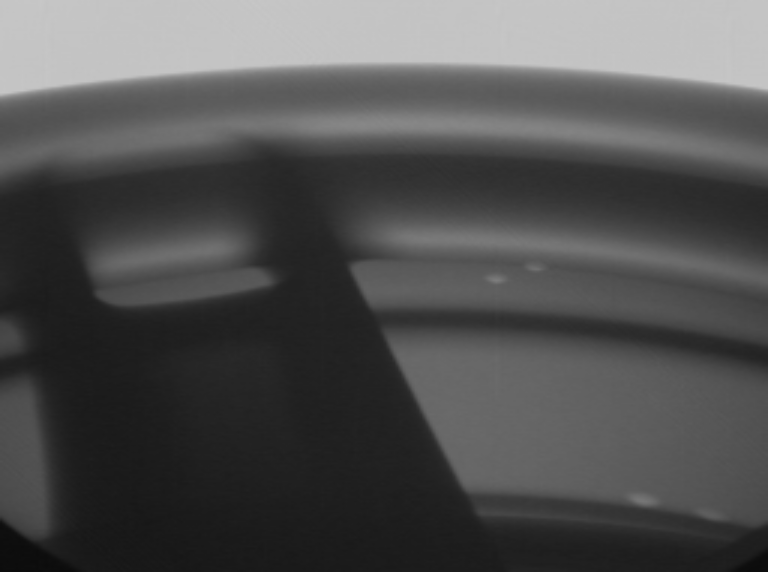defect: (687, 498, 735, 532)
